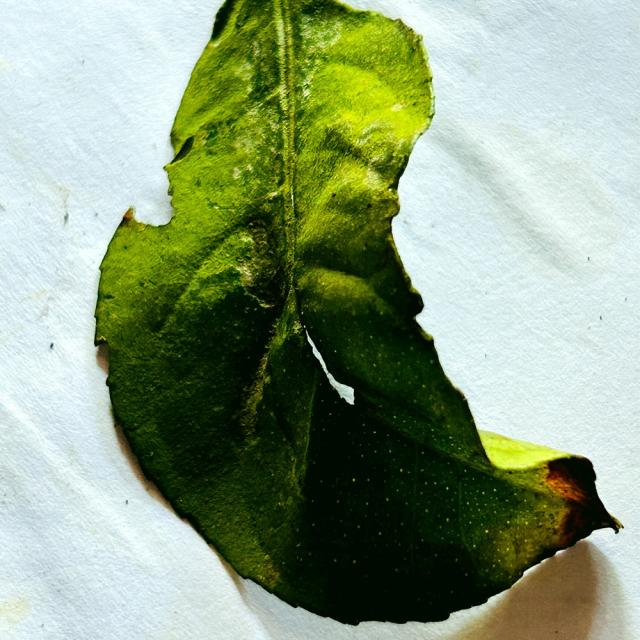Deficiency Leaf: (393, 113, 583, 453), (108, 0, 223, 225), (301, 325, 355, 405)
Lemon: (95, 0, 621, 624)
